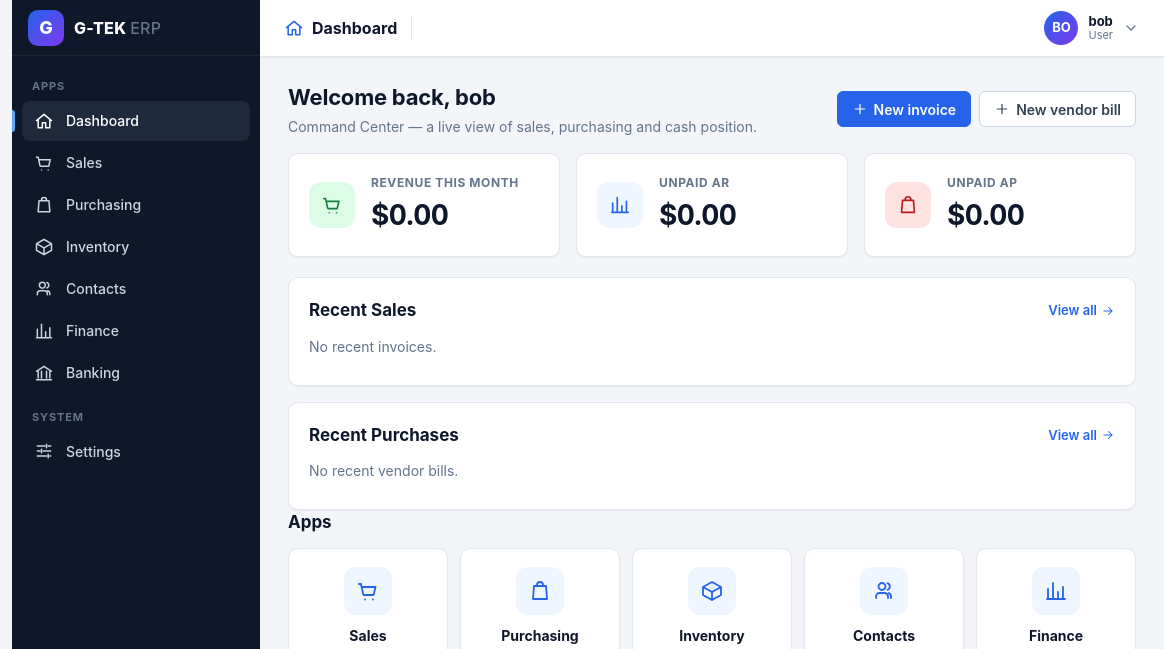
hides the Security / Users link from non-admin users
Expected: the text "Revenue This Month" is shown, [371, 174, 519, 192]
Click the link "Settings": (77,451) [34, 441, 121, 461]
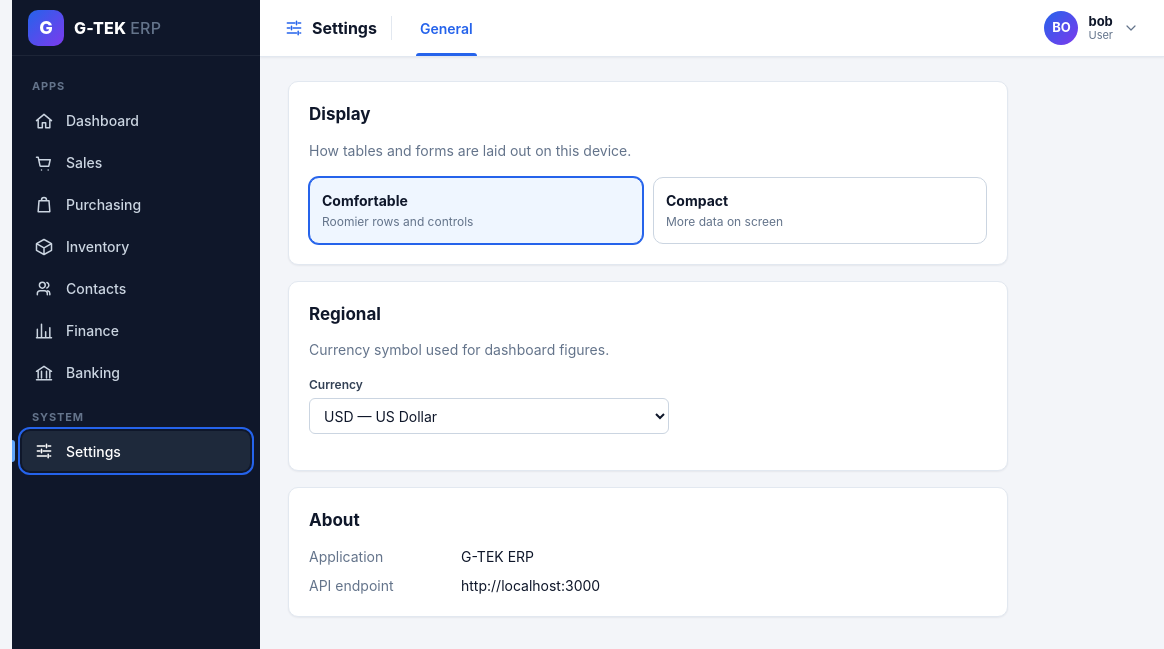
Expected: the link "General" is shown, [406, 0, 487, 56]
